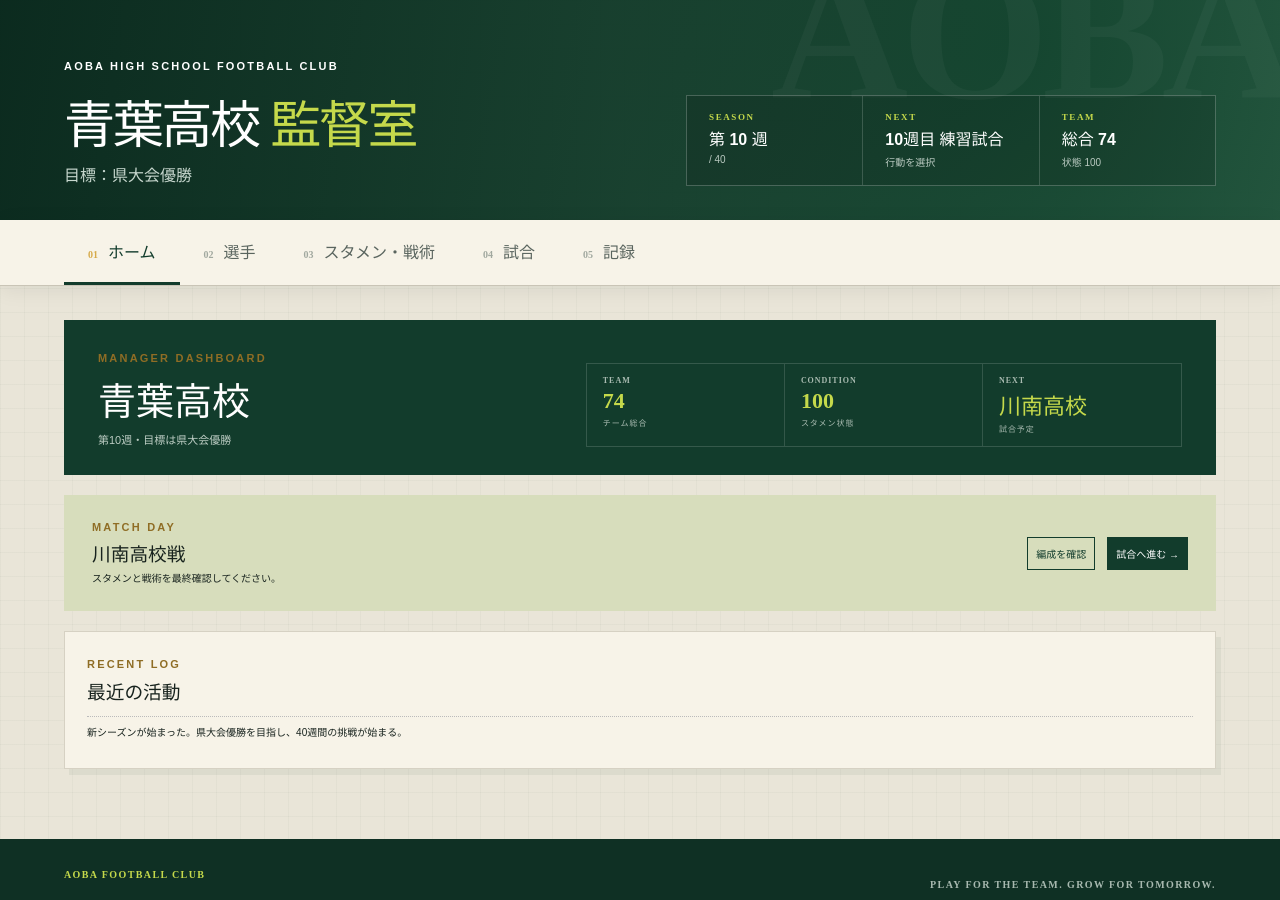
Test: 2D replay navigation › enters live 2D watching without exposing the final result
Click the button "04試合" at (509, 252), box [459,220,559,285]
(page scrolled)
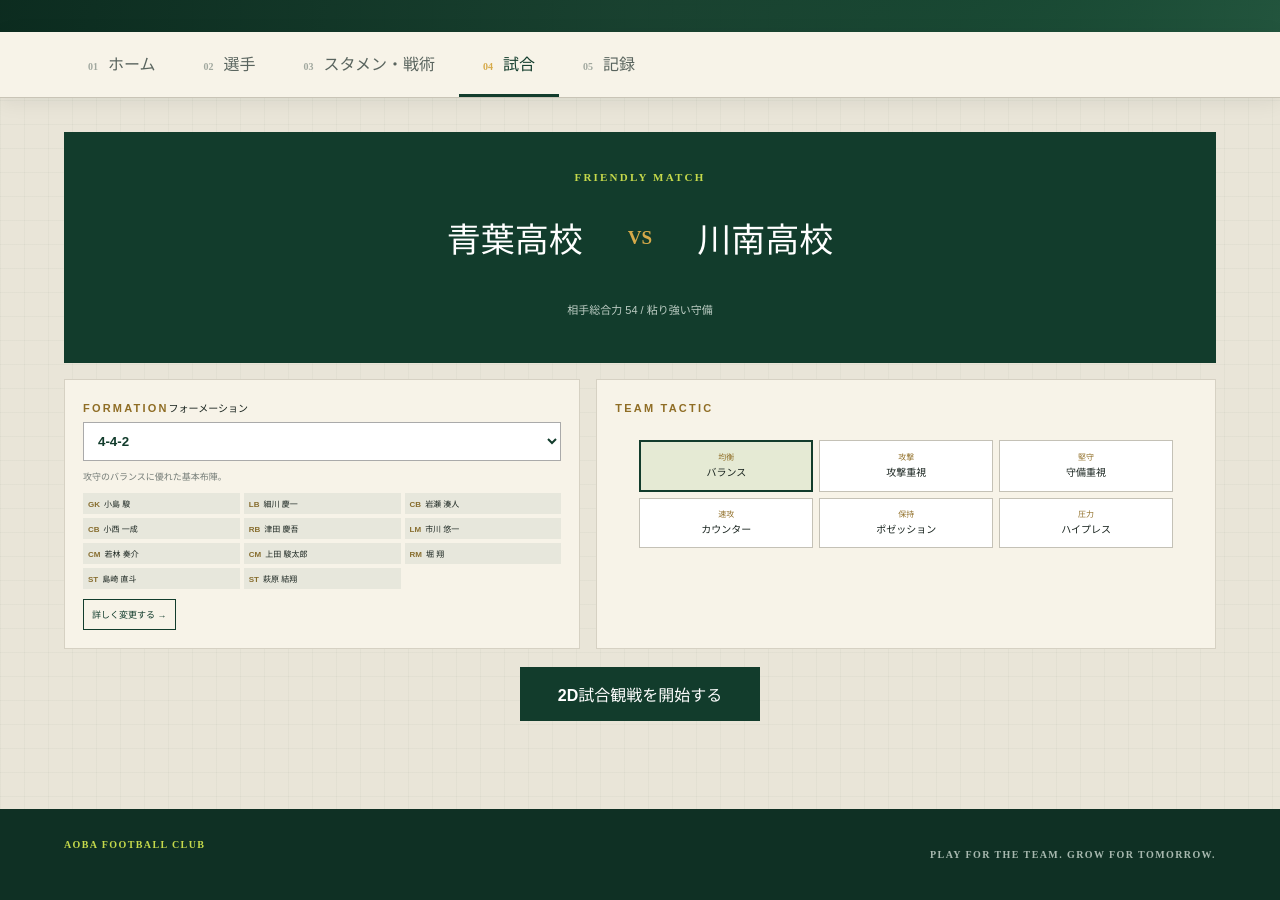
Click the button "2D試合観戦を開始する" at (640, 694), box [520,667,760,721]
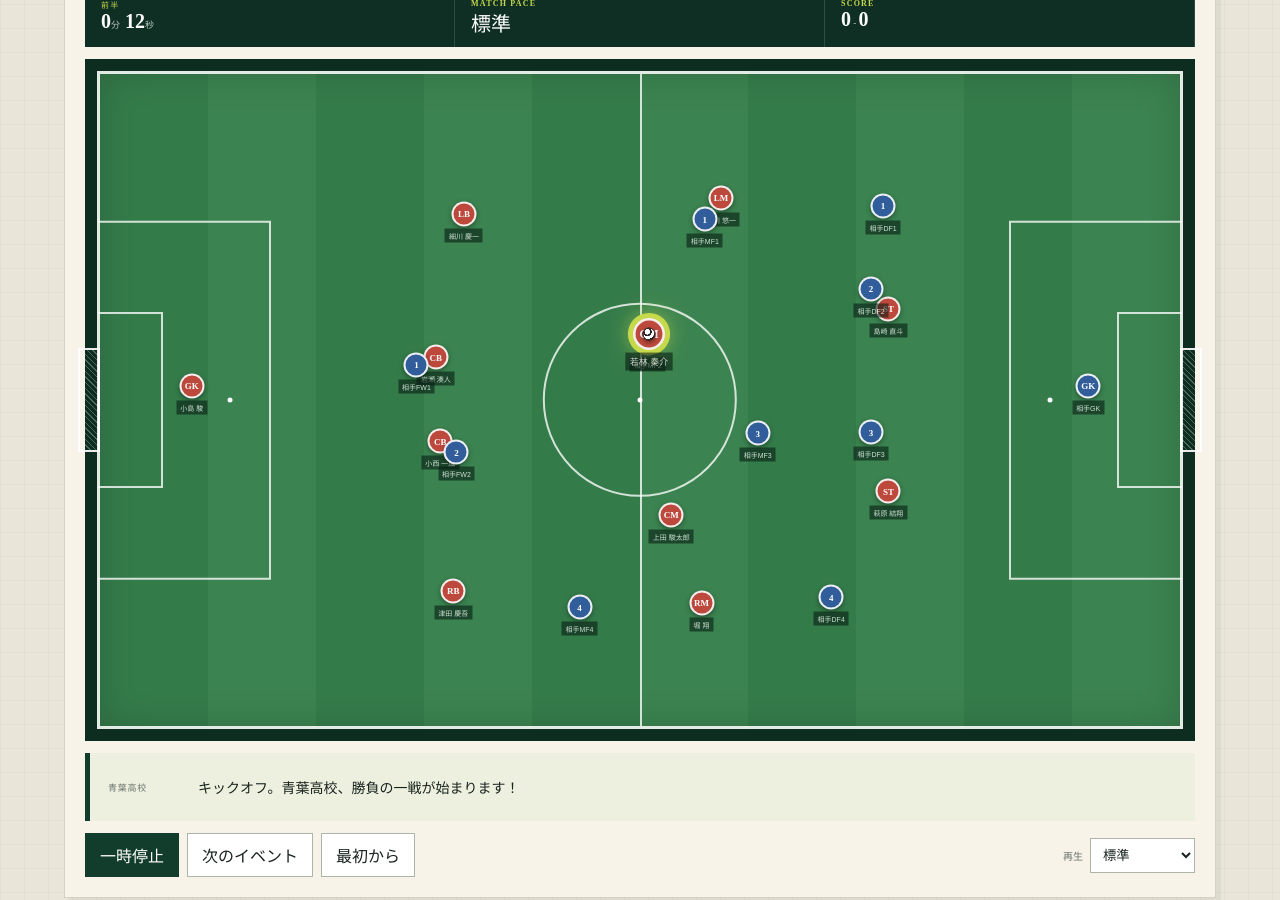
Check: the picture named "2Dサッカーピッチ" is shown
